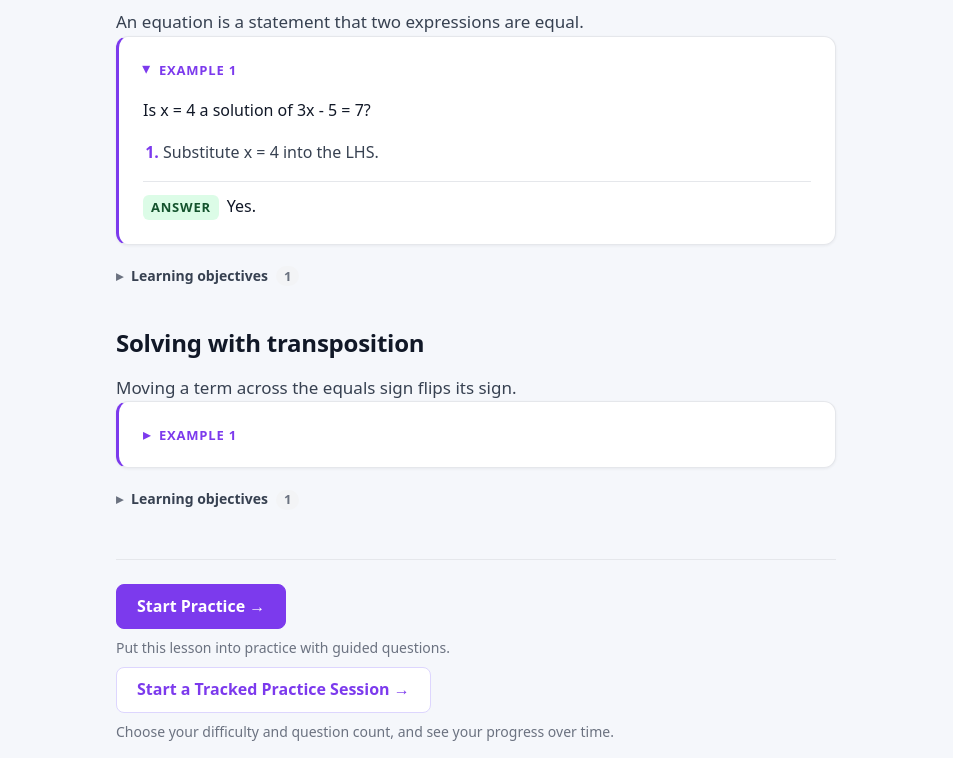
it: Chapter -> lesson -> practice journey (lesson-page UX slice) › the unchanged bottom end-of-lesson CTA still reaches practice
(page scrolled)
Click the button "Start Practice →": coordinates (201, 606) [116,584,286,629]
(page scrolled)
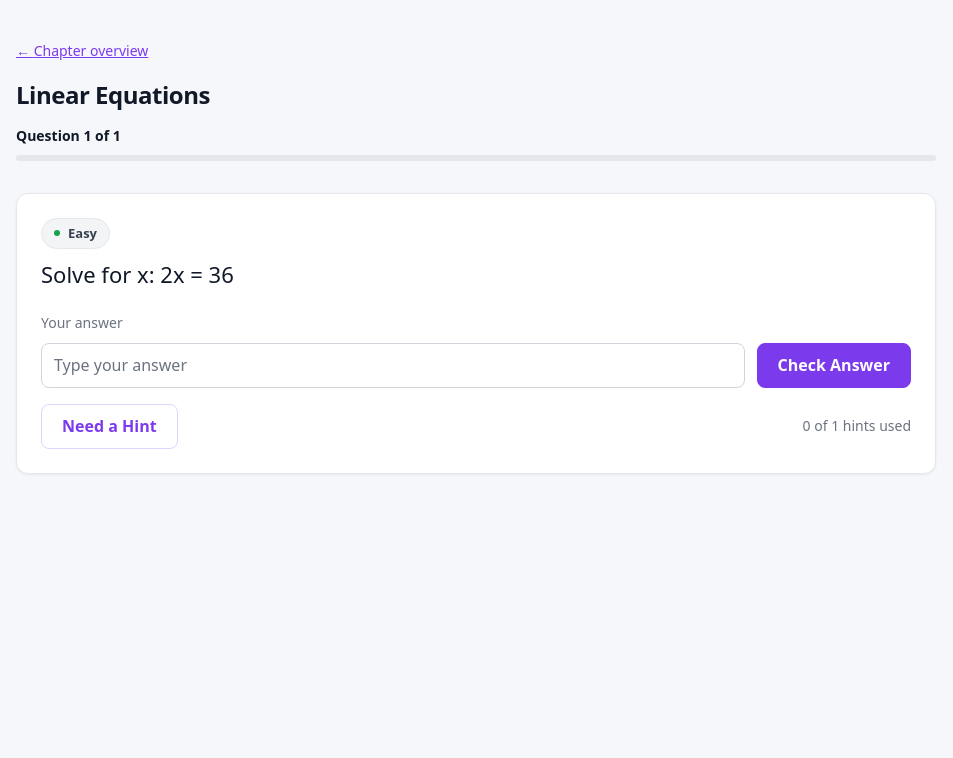
Expected: the text "Solve for x: 2x = 36" is shown, [41,259,234,289]
